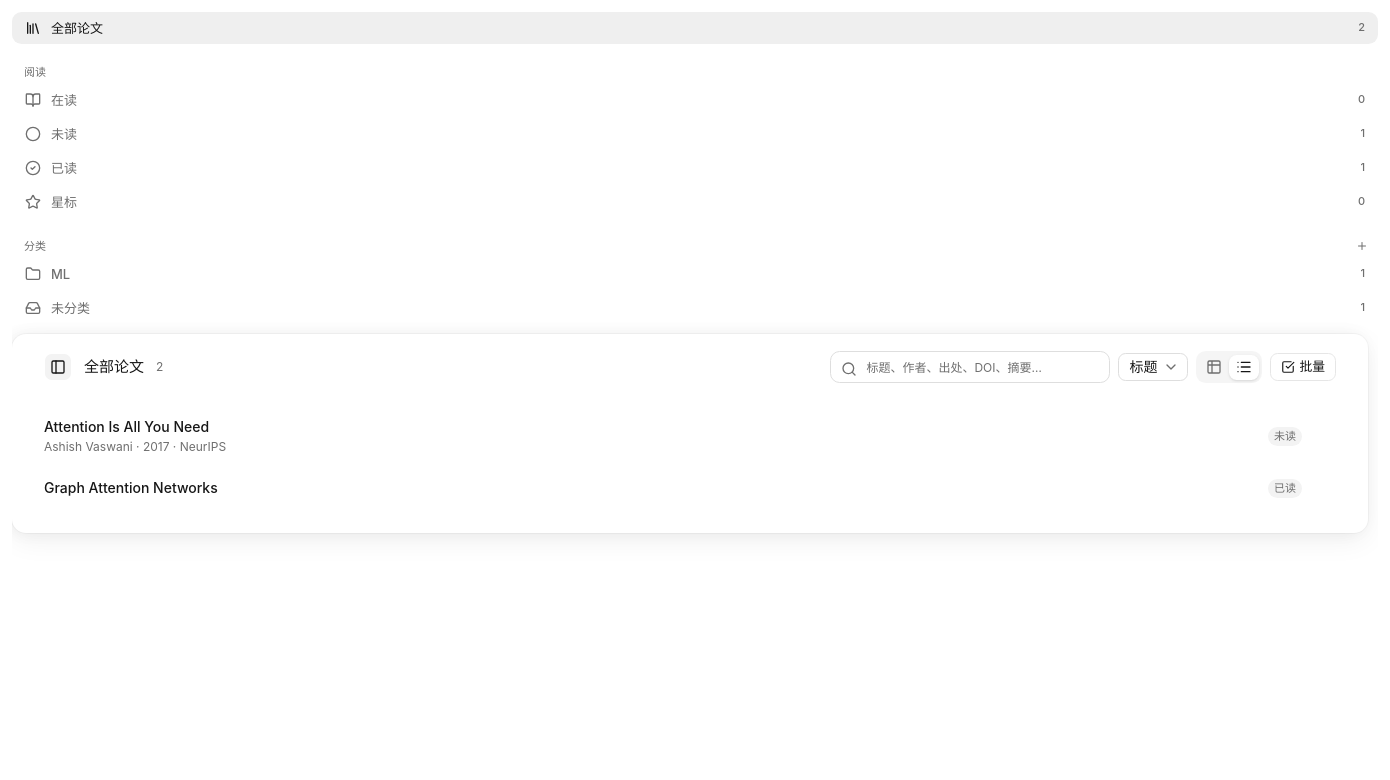
keeps failed papers selected in batch mode for retry
Press a in the list item "Attention Is All You Need Ashish Vaswani · 2017 · NeurIPS 未读", box top-left (32, 408), bottom-right (1348, 465)
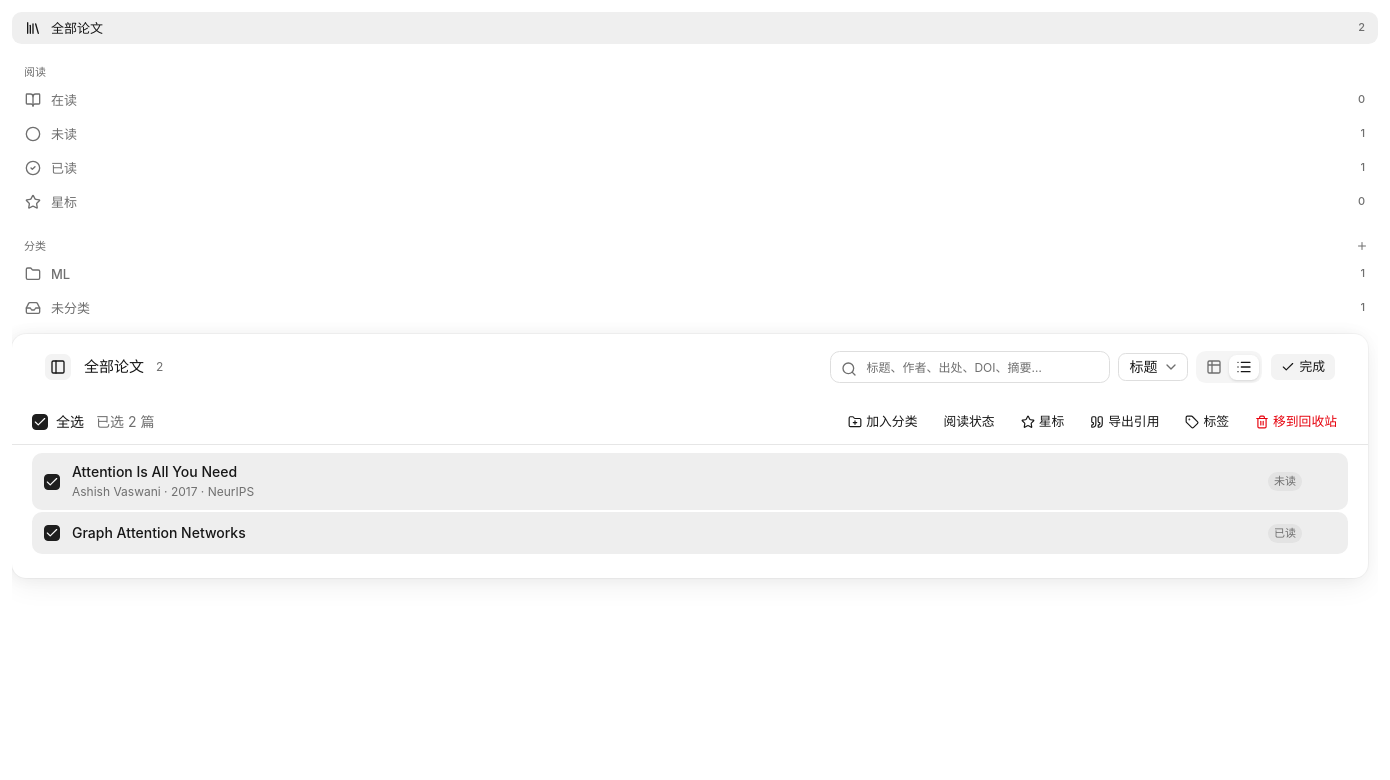
Click the button "移到回收站" at (1296,422), box top-left (1244, 408), bottom-right (1348, 436)
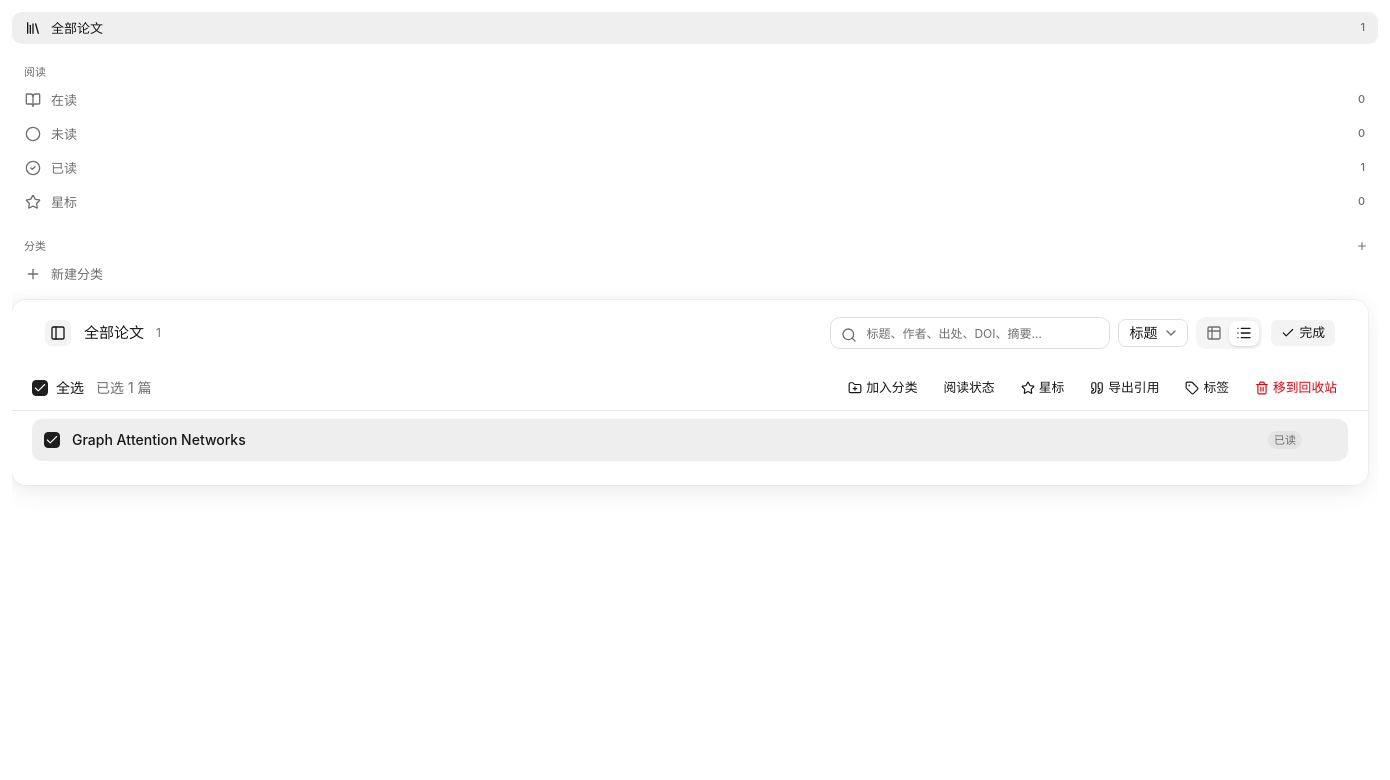
Result: the text "已选 1 篇" is shown at top-left (96, 378), bottom-right (152, 398)
